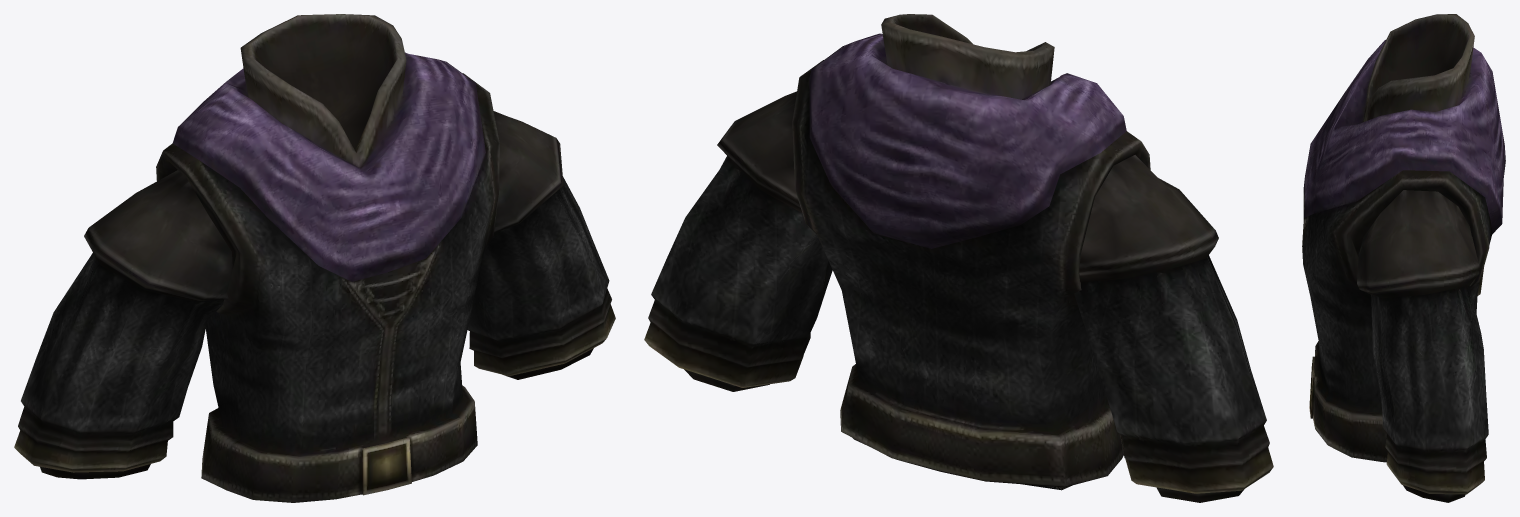
The model's file is STATIC_GS_FRN_FAC_T12.glb.
3 views of the same model, side by side, from view 1: azimuth 30°, elevation 25°; view 2: azimuth 150°, elevation 25°; view 3: azimuth 270°, elevation 25° (orthographic). The views are drawn at different scales.
Parts seen in each view (by area): view 1: Mesh; view 2: Mesh; view 3: Mesh.
Boxes of the visible parts, x1,y1,x2,y2 form: Mesh: [14, 14, 615, 502]; Mesh: [644, 14, 1273, 502]; Mesh: [1302, 14, 1505, 502].
Bounding box in the file's own units: 0.7075 × 0.4849 × 0.2343.
1 material, 1 textured.
